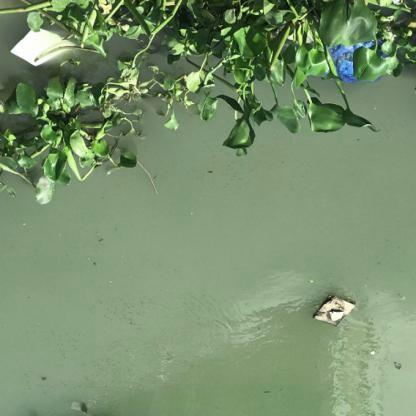Trash: (322, 34, 401, 92), (8, 21, 84, 76), (312, 293, 357, 330)
